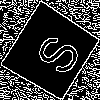S: (26, 26, 84, 79)
